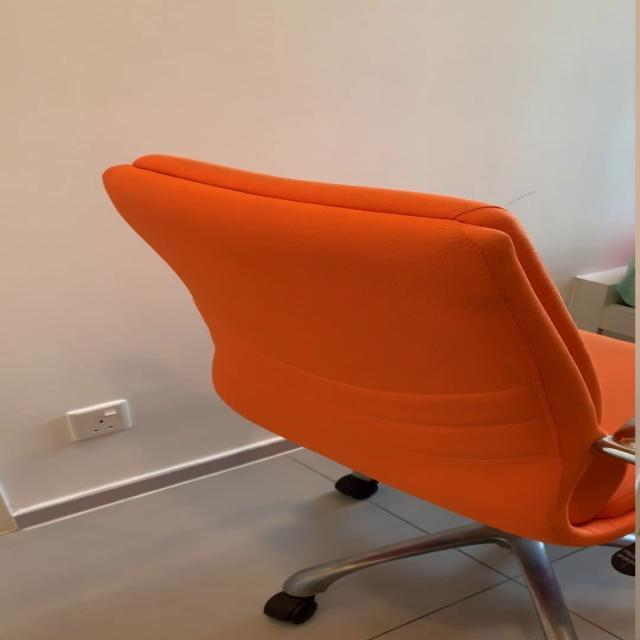chair: (95, 150, 640, 640)
